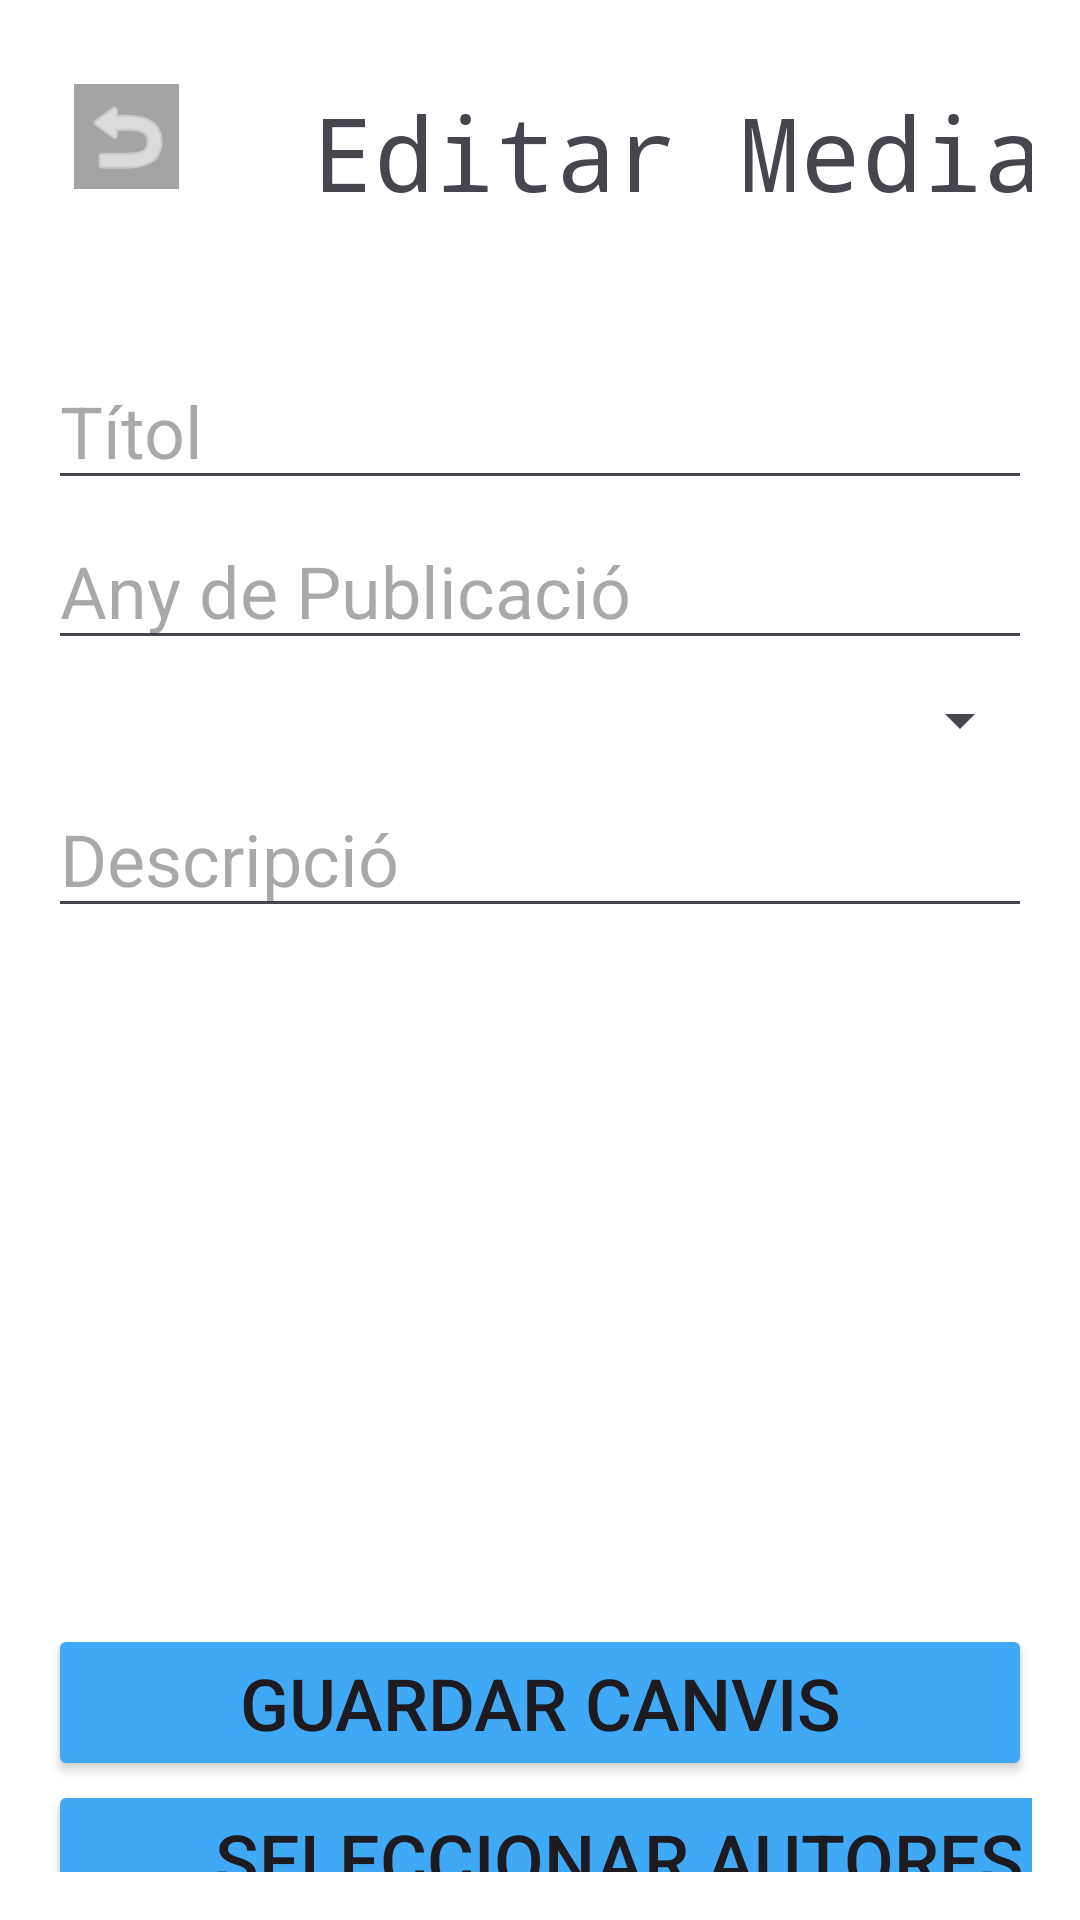

Icon bounding boxes for this 1080 × 1920 phone screenshot, format (x1, y1, x2, y2):
revert: (74, 84, 179, 189)
